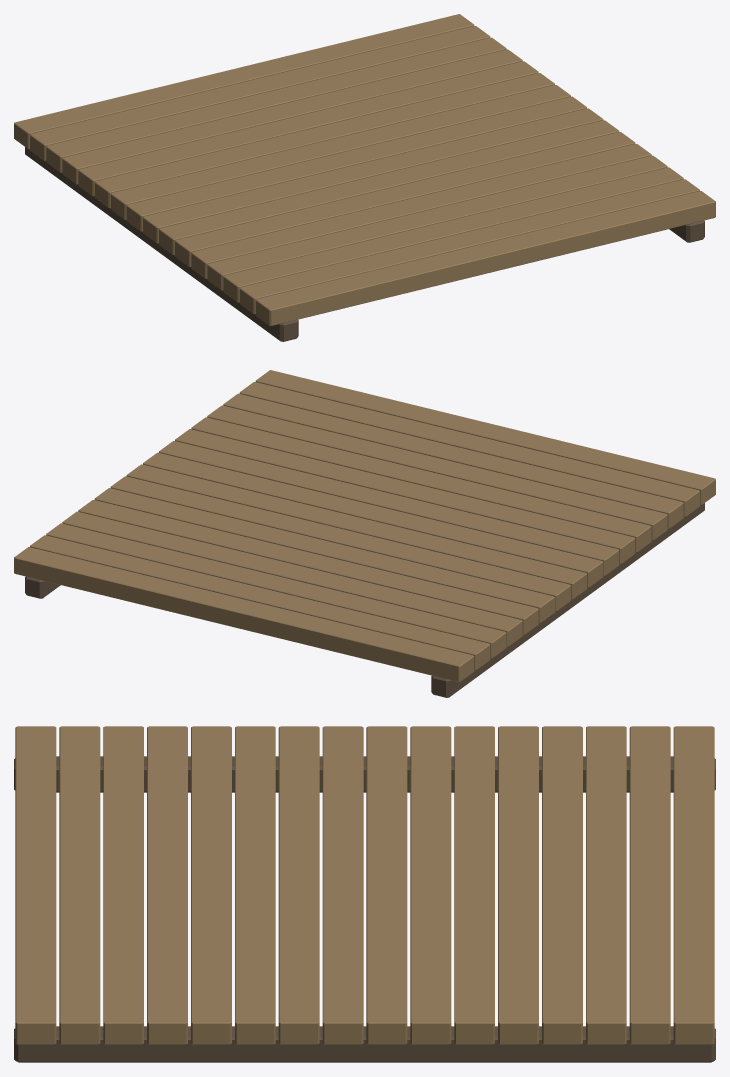
File: bridge-wide.glb
3 renders of one model, top to bottom at view 1: azimuth 30°, elevation 25°; view 2: azimuth 150°, elevation 25°; view 3: azimuth 270°, elevation 25°, orthographic. The views are drawn at different scales.
Parts seen in each view (by area): view 1: bridge-wide__body; view 2: bridge-wide__body; view 3: bridge-wide__body.
Part boxes in pixels (x1=…): bridge-wide__body: x1=14, y1=14, x2=715, y2=341; bridge-wide__body: x1=14, y1=370, x2=715, y2=697; bridge-wide__body: x1=14, y1=726, x2=715, y2=1062.
Size of the model in its own units: 4 by 0.3 by 4.
